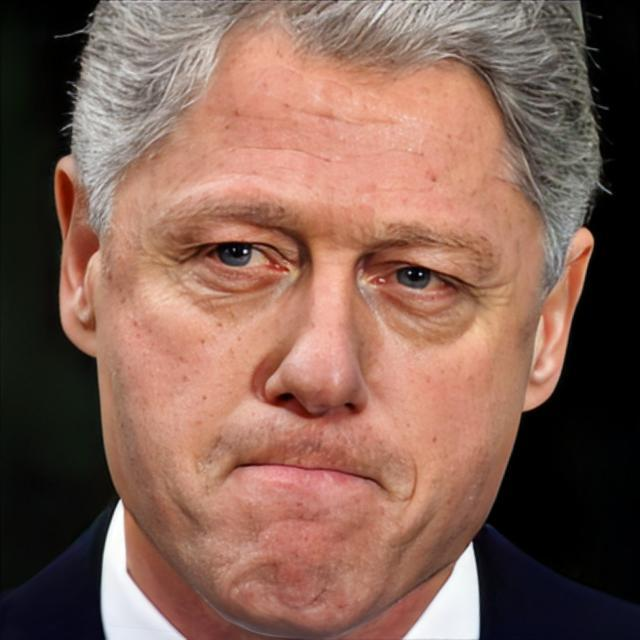anger: (109, 35, 540, 624)
